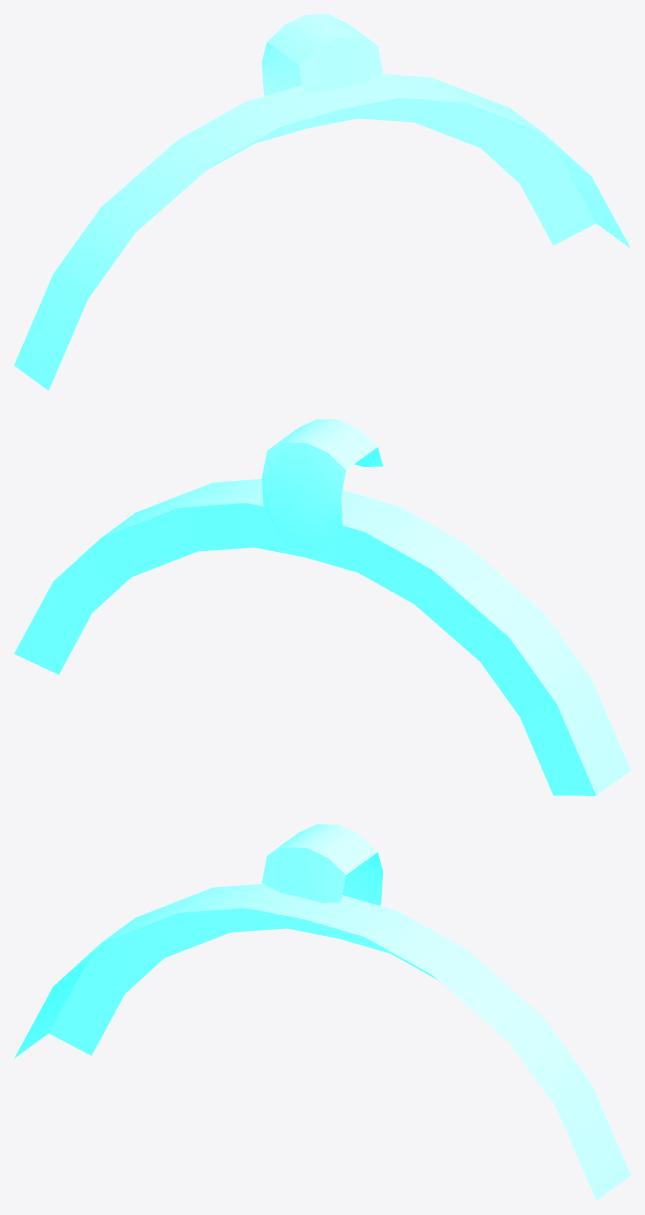
File: PH_mesh_Rooftop_Door_ArcTop.fbx
The picture shows the model from 3 angles, top to bottom: view 1: azimuth 30°, elevation 25°; view 2: azimuth 150°, elevation 25°; view 3: azimuth 330°, elevation 25°; orthographic projection.
Visible parts, largest first — view 1: mesh_Rooftop_Door_ArcTop; view 2: mesh_Rooftop_Door_ArcTop; view 3: mesh_Rooftop_Door_ArcTop.
Boxes of the visible parts, <box> form: mesh_Rooftop_Door_ArcTop: <box>14,14,630,390</box>; mesh_Rooftop_Door_ArcTop: <box>14,419,630,795</box>; mesh_Rooftop_Door_ArcTop: <box>14,824,630,1200</box>.
Size of the model in its own units: 4.12 by 1.97 by 0.5182.
